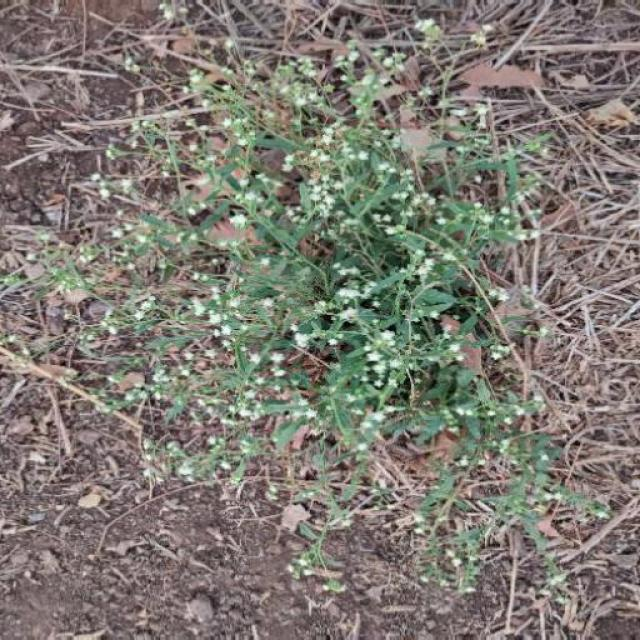weed: (54, 68, 605, 498)
